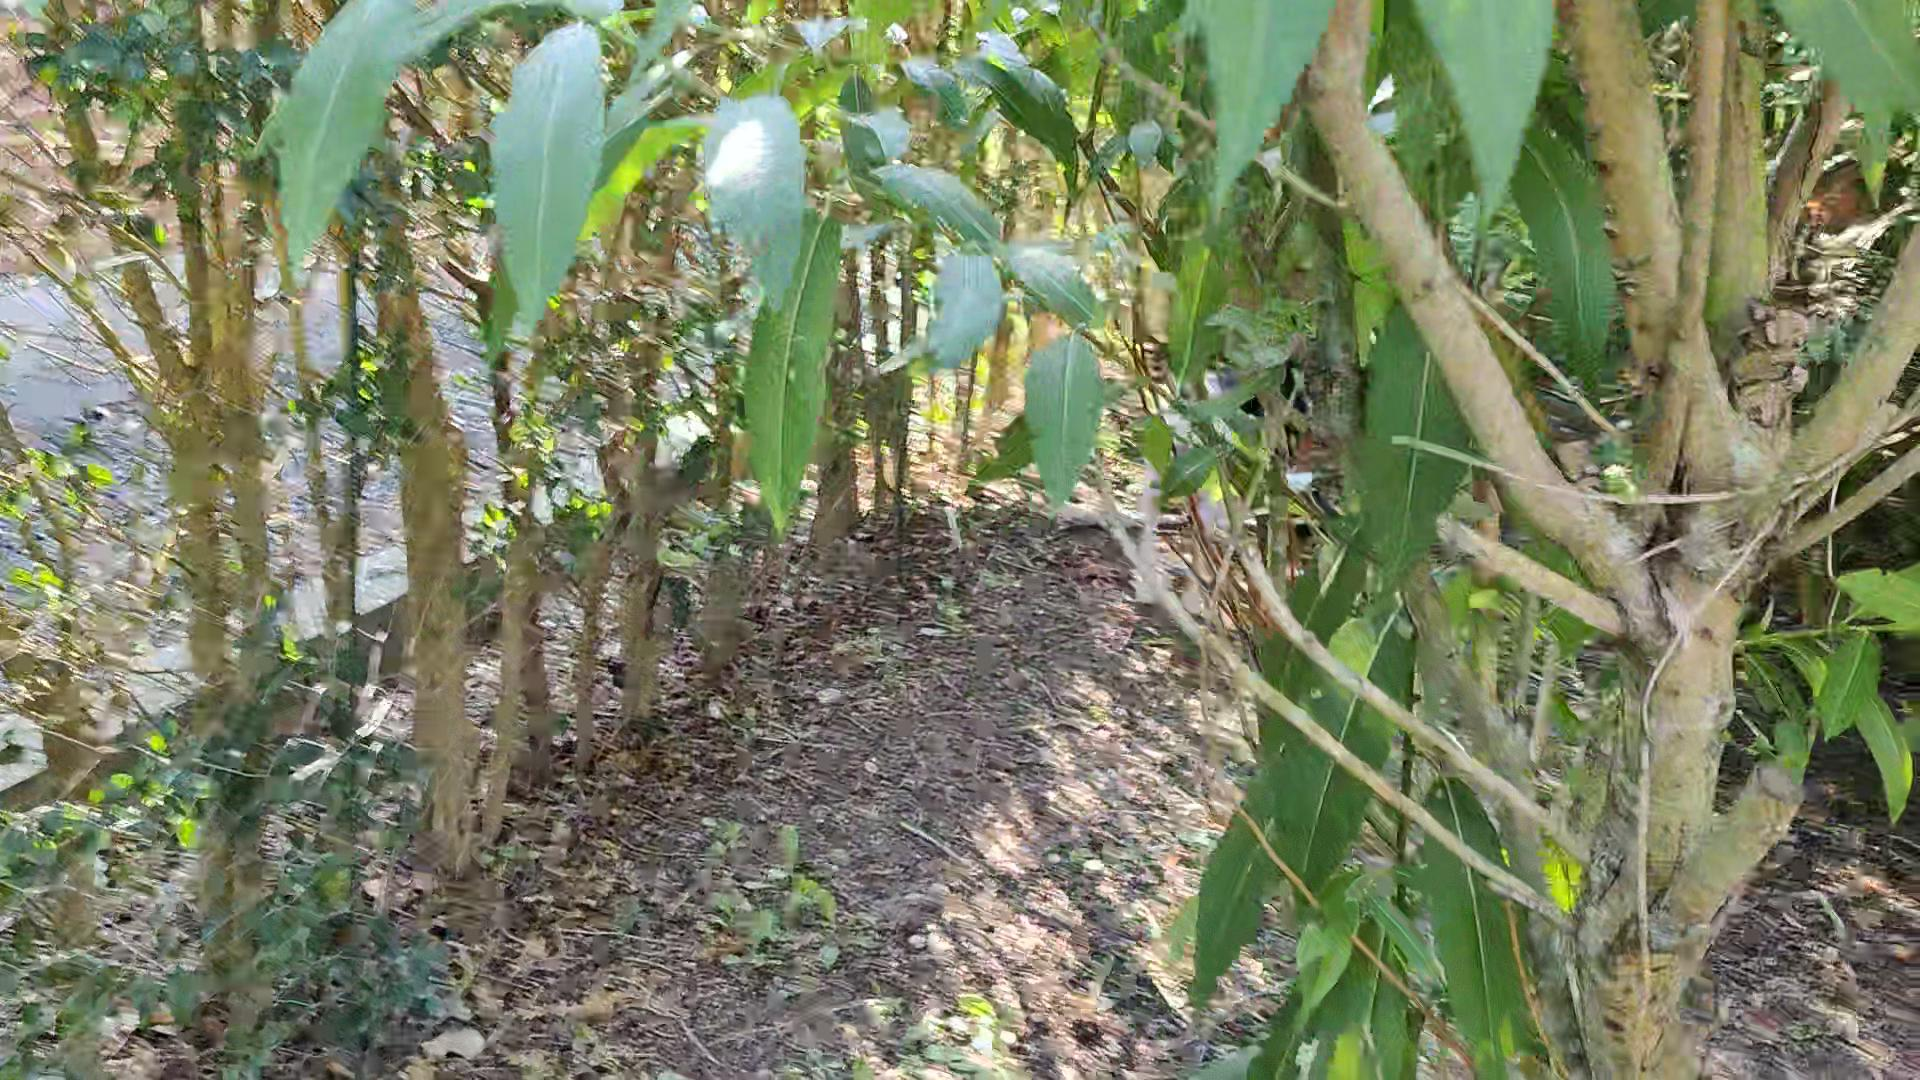Dog: (1120, 327, 1317, 630)
